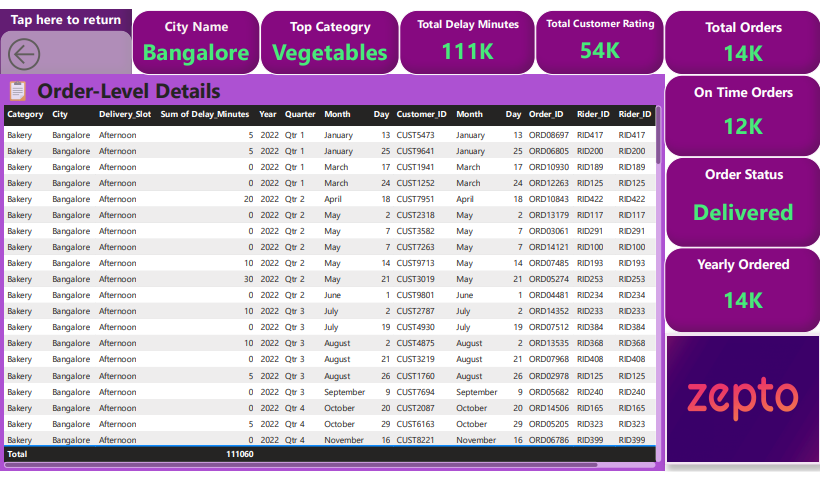

The page's visual inventory and layout, read from the dashboard file:
{"tool":"powerbi","page":{"name":"Order Details","canvas":[1280,720],"ordinal":1},"visuals":[{"type":"actionButton","title":"Tap here to return","box":[0,0,205.3,101.9],"z":0},{"type":"tableEx","title":"📋 Order-Level Details","fields":{"Values":["Zepto_Instant_Delivery_Dataset.Category","Zepto_Instant_Delivery_Dataset.City","Zepto_Instant_Delivery_Dataset.Delivery_Slot","Sum(Zepto_Instant_Delivery_Dataset.Delay_Minutes)","Zepto_Instant_Delivery_Dataset.Delivered_Time.Variation.Date Hierarchy.Year","Zepto_Instant_Delivery_Dataset.Delivered_Time.Variation.Date Hierarchy.Quarter","Zepto_Instant_Delivery_Dataset.Delivered_Time.Variation.Date Hierarchy.Month","Zepto_Instant_Delivery_Dataset.Delivered_Time.Variation.Date Hierarchy.Day","Zepto_Instant_Delivery_Dataset.Customer_ID","Zepto_Instant_Delivery_Dataset.Order_Time.Variation.Date Hierarchy.Month","Zepto_Instant_Delivery_Dataset.Order_Time.Variation.Date Hierarchy.Day","Zepto_Instant_Delivery_Dataset.Order_ID"]},"box":[0,101.9,1035.4,617.4],"z":1000},{"type":"card","title":"Order Status","fields":{"Values":["Min(Zepto_Instant_Delivery_Dataset.Order_Status)"]},"box":[1036.8,230.1,243.2,141.3],"z":2000},{"type":"card","title":"Total Customer Rating","fields":{"Values":["Sum(Zepto_Instant_Delivery_Dataset.Customer_Rating)"]},"box":[834.4,1.5,201,100.5],"z":3000},{"type":"card","title":"Total Delay Minutes","fields":{"Values":["Sum(Zepto_Instant_Delivery_Dataset.Delay_Minutes)"]},"box":[621.8,1.5,212.6,100.5],"z":4000},{"type":"card","title":"Total Orders","fields":{"Values":["Zepto_Instant_Delivery_Dataset.Total Orders"]},"box":[1035.4,1.5,244.6,100.5],"z":5000},{"type":"card","title":"City Name","fields":{"Values":["Min(Zepto_Instant_Delivery_Dataset.City)"]},"box":[205.3,1.5,199.5,100.5],"z":6000},{"type":"card","title":"On Time Orders","fields":{"Values":["Zepto_Instant_Delivery_Dataset.On-Time Orders"]},"box":[1035.4,101.9,244.6,128.1],"z":7000},{"type":"card","title":"Top Cateogry","fields":{"Values":["Zepto_Instant_Delivery_Dataset.Top Category"]},"box":[404.8,1.5,217,100.5],"z":8000},{"type":"card","title":"Yearly Ordered","fields":{"Values":["Zepto_Instant_Delivery_Dataset.Yearly Orders"]},"box":[1035.4,371.3,244.6,132.5],"z":9000},{"type":"image","box":[1035.4,503.8,244.6,205.3],"z":10000}]}

Visuals, with their boxes in screenshot pixels (x1, y1, x2, y2):
"Tap here to return" actionButton: 9:9:138:73
"📋 Order-Level Details" tableEx: 9:73:663:463
"Order Status" card: 664:154:817:243
"Total Customer Rating" card: 536:9:663:73
"Total Delay Minutes" card: 401:9:536:73
"Total Orders" card: 663:9:817:73
"City Name" card: 138:9:264:73
"On Time Orders" card: 663:73:817:154
"Top Cateogry" card: 264:9:401:73
"Yearly Ordered" card: 663:243:817:327
image: 663:327:817:457
